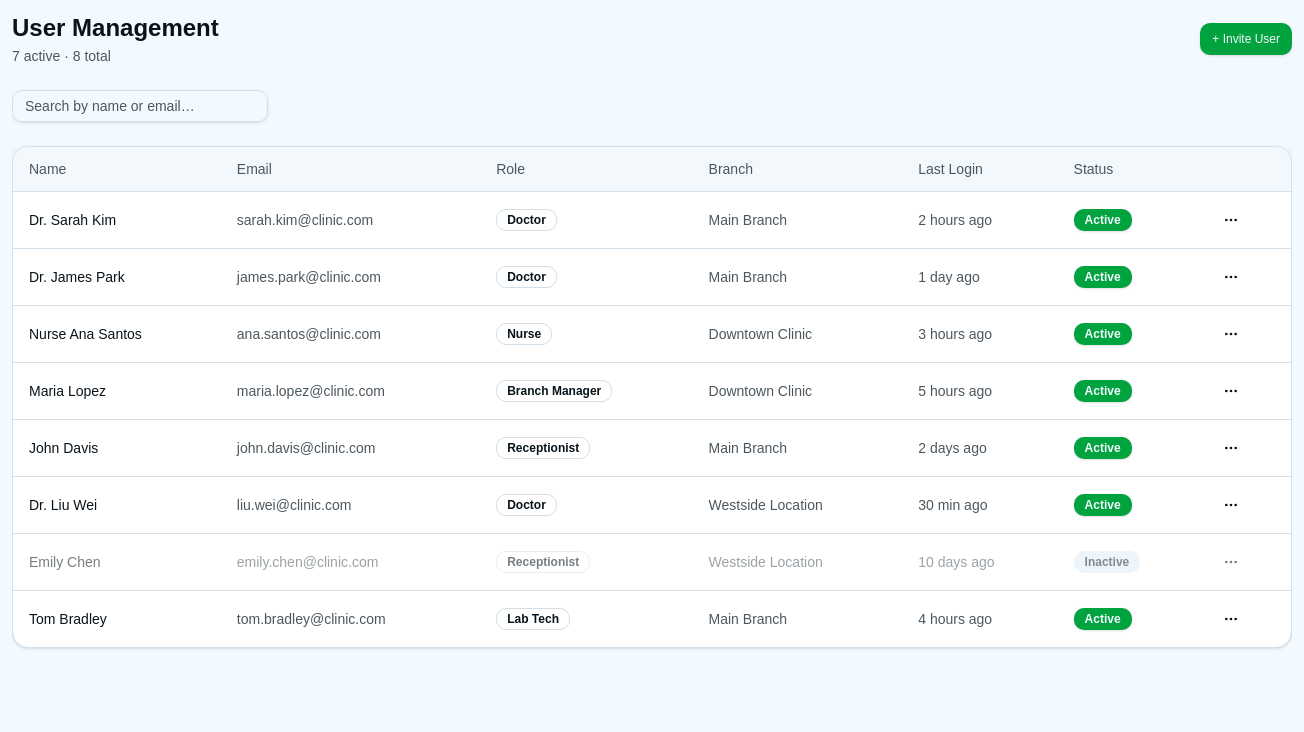
Test: UserManagementPage (CC-88) › Shows ellipsis action menu on each row
Click the button without text in the row of "Dr. Sarah Kim" at coordinates (1231, 220), box [1215, 204, 1247, 236]
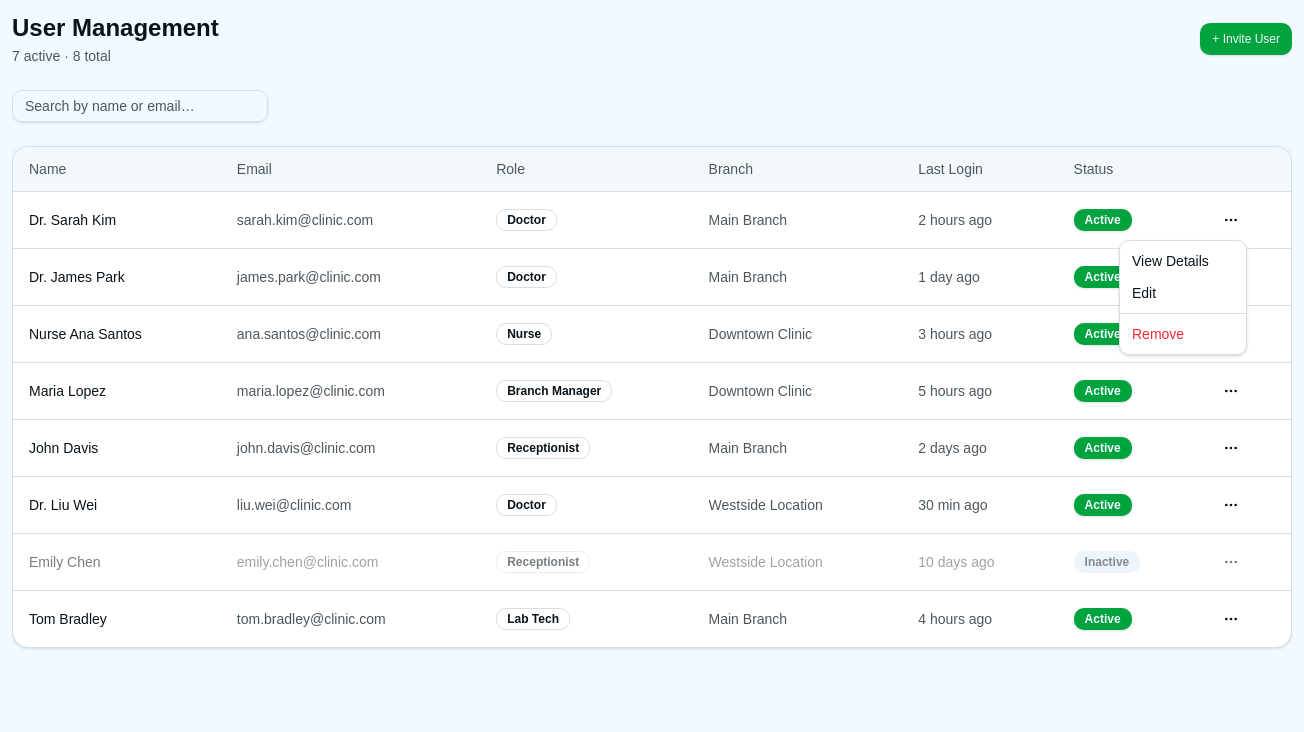
Check: the menu item "View Details" is shown, box [1132, 253, 1209, 269]
Check: the menu item "Edit" is shown, box [1132, 285, 1156, 301]
